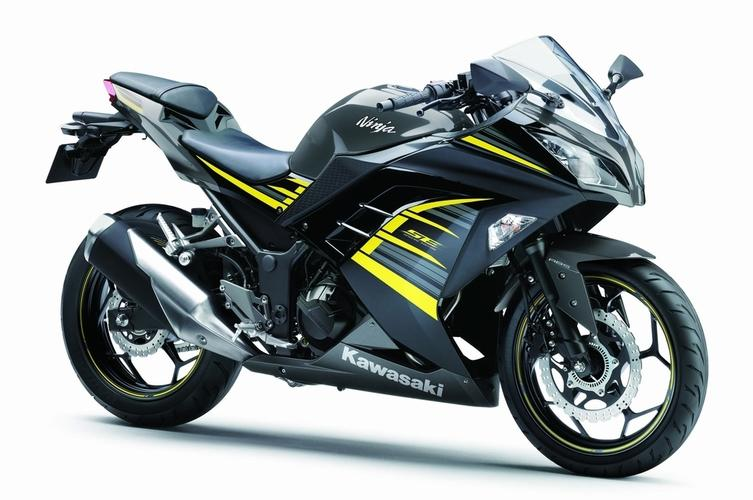摩托车: (39, 19, 721, 484)
